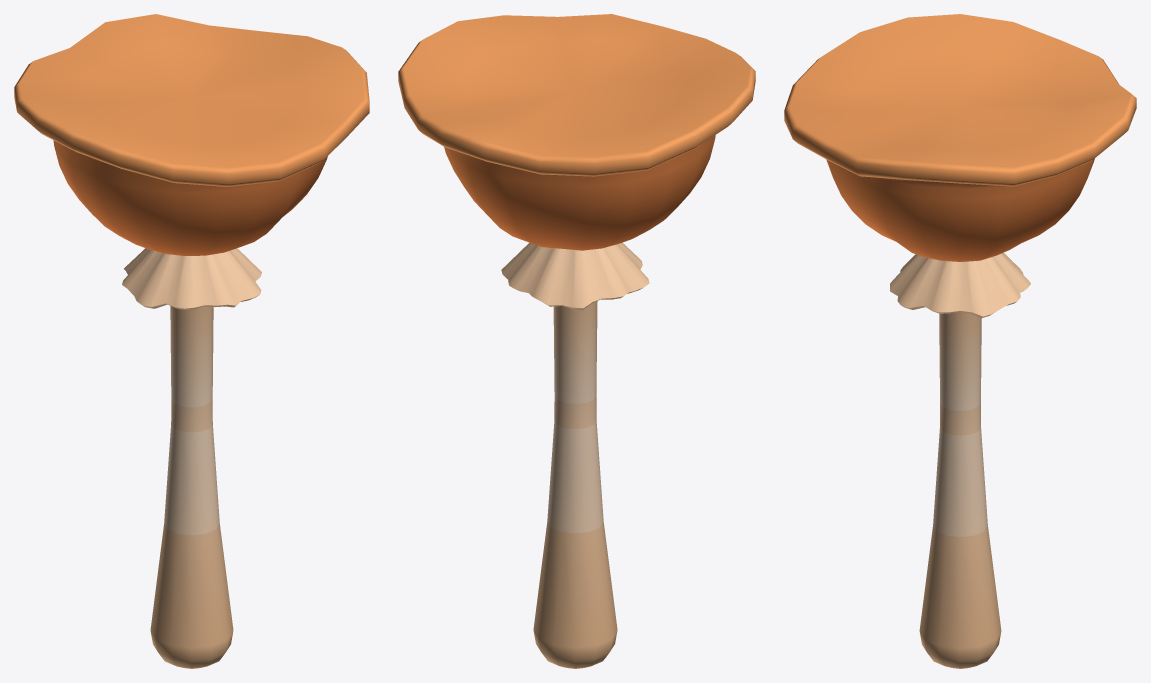
Rendered from Mushroom3.fbx.
3 renders of one model, left to right at view 1: azimuth 30°, elevation 25°; view 2: azimuth 150°, elevation 25°; view 3: azimuth 270°, elevation 25°, orthographic. The views are drawn at different scales.
Visible parts, largest first — view 1: Mushroom3; view 2: Mushroom3; view 3: Mushroom3.
Part boxes in pixels (left/top/right/bottom): Mushroom3: left=14, top=14, right=369, bottom=668; Mushroom3: left=398, top=14, right=755, bottom=668; Mushroom3: left=784, top=14, right=1136, bottom=668.
Bounding box in the file's own units: 454 × 821 × 454.
